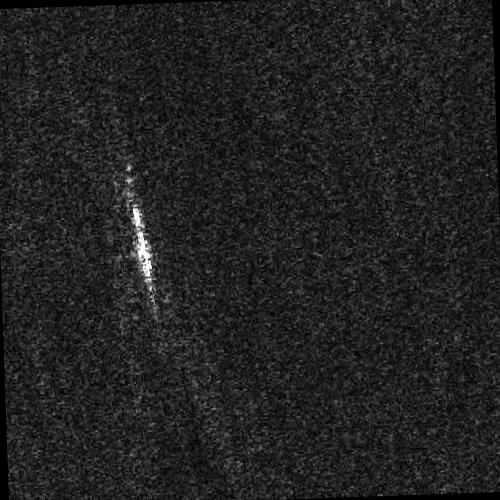ship: (129, 199, 156, 298)
